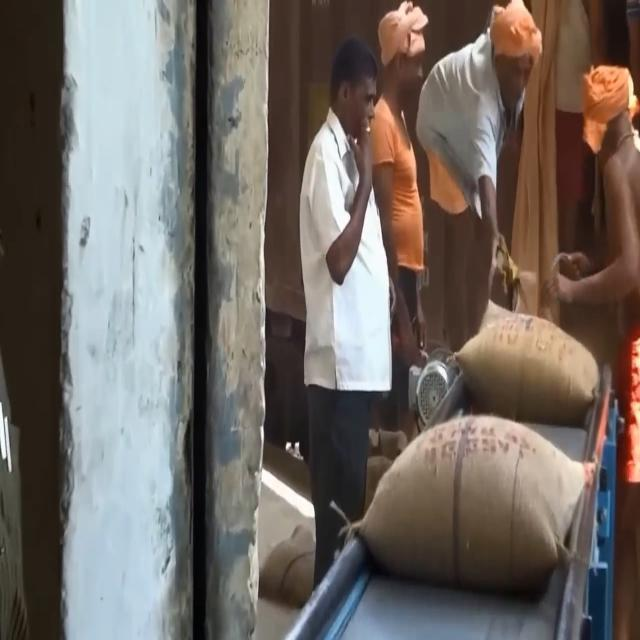gunny_bag: (348, 412, 598, 602), (450, 295, 607, 420)
